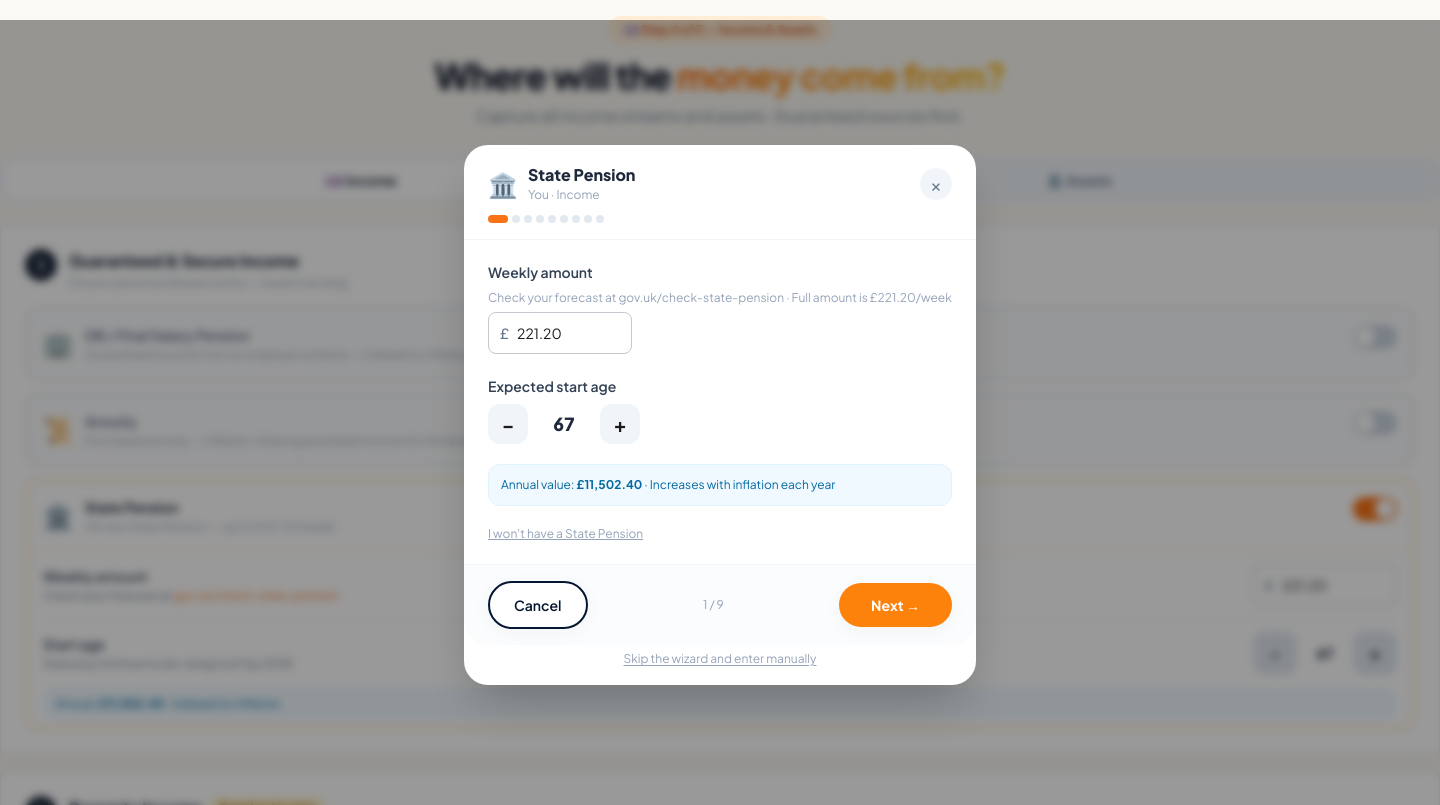
Test: Step3IncomeSources — guided wizard default behaviour › "Skip the wizard and enter manually" link dismisses the wizard
Step 1. Click the button "Skip the wizard and enter manually" → (720, 659), box [624,651,816,667]
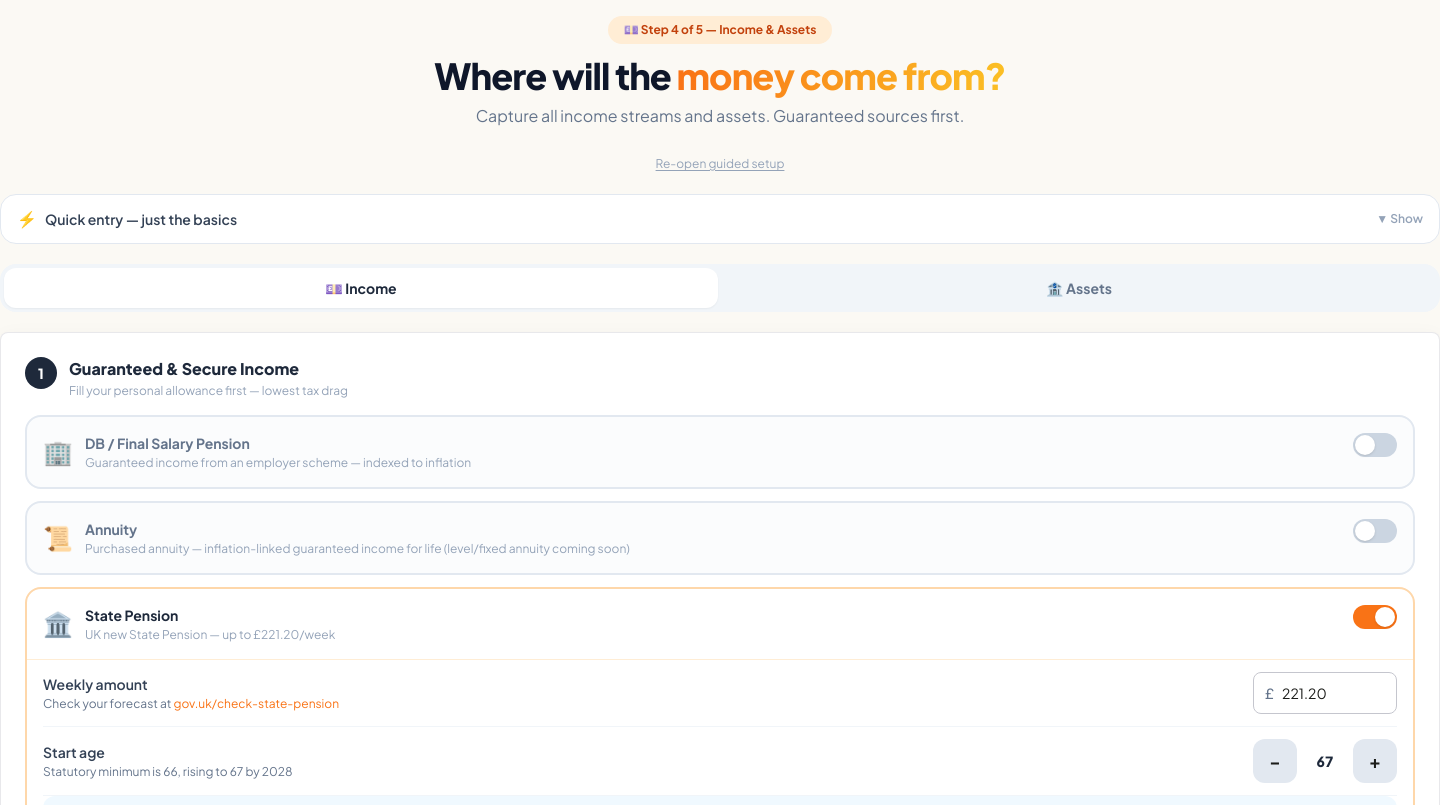
Expected: the button "Skip the wizard and enter manually" is gone
Expected: the button "Re-open guided setup" is shown, [0,156,1439,172]
